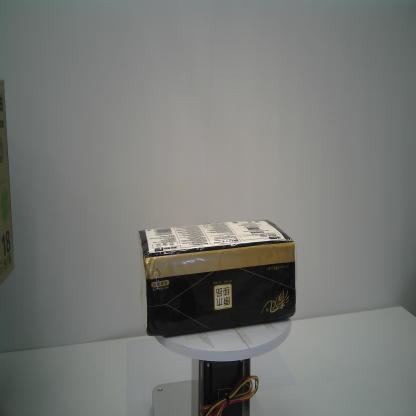Tissue: (138, 219, 296, 337)
